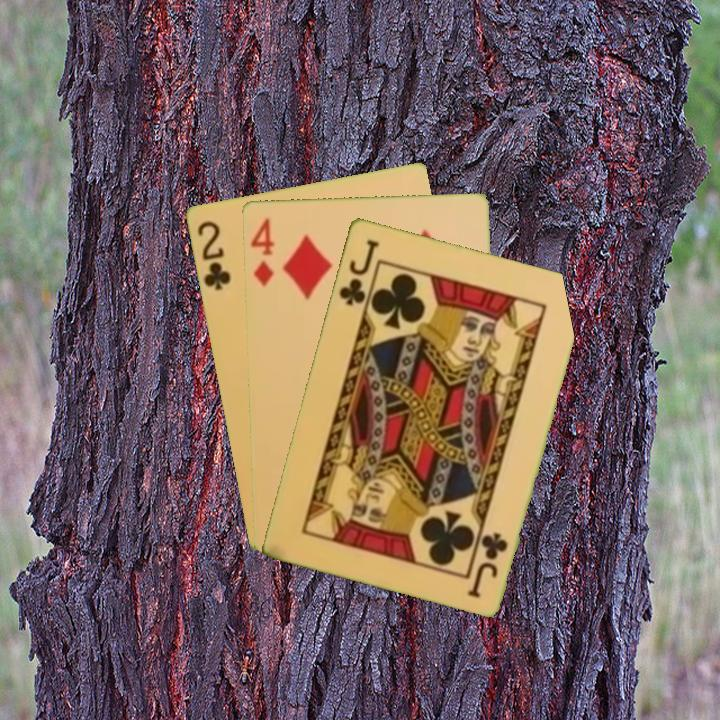2c: (193, 217, 233, 293)
4d: (246, 214, 277, 289)
Jc: (335, 235, 382, 308), (465, 528, 511, 600)
